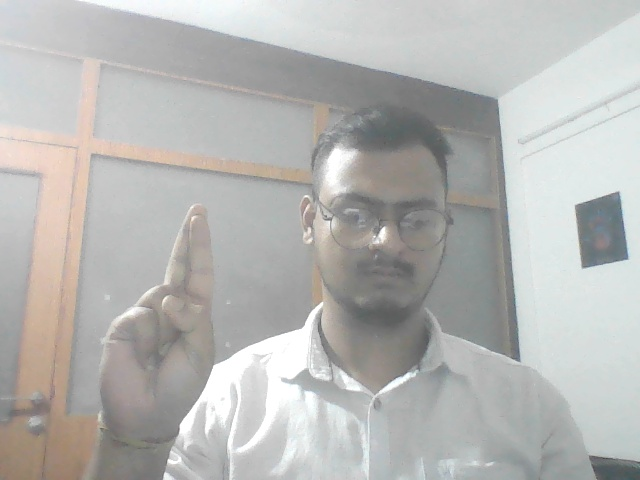GoodLuck: (97, 202, 231, 437)
